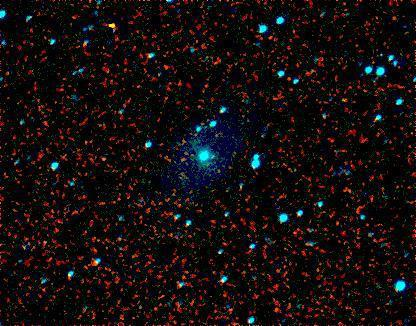star: (96, 13, 126, 43)
